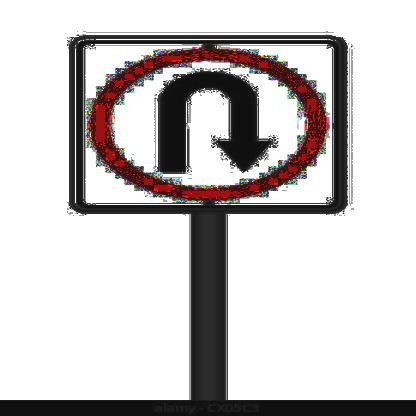U-turn: (67, 38, 332, 206)
